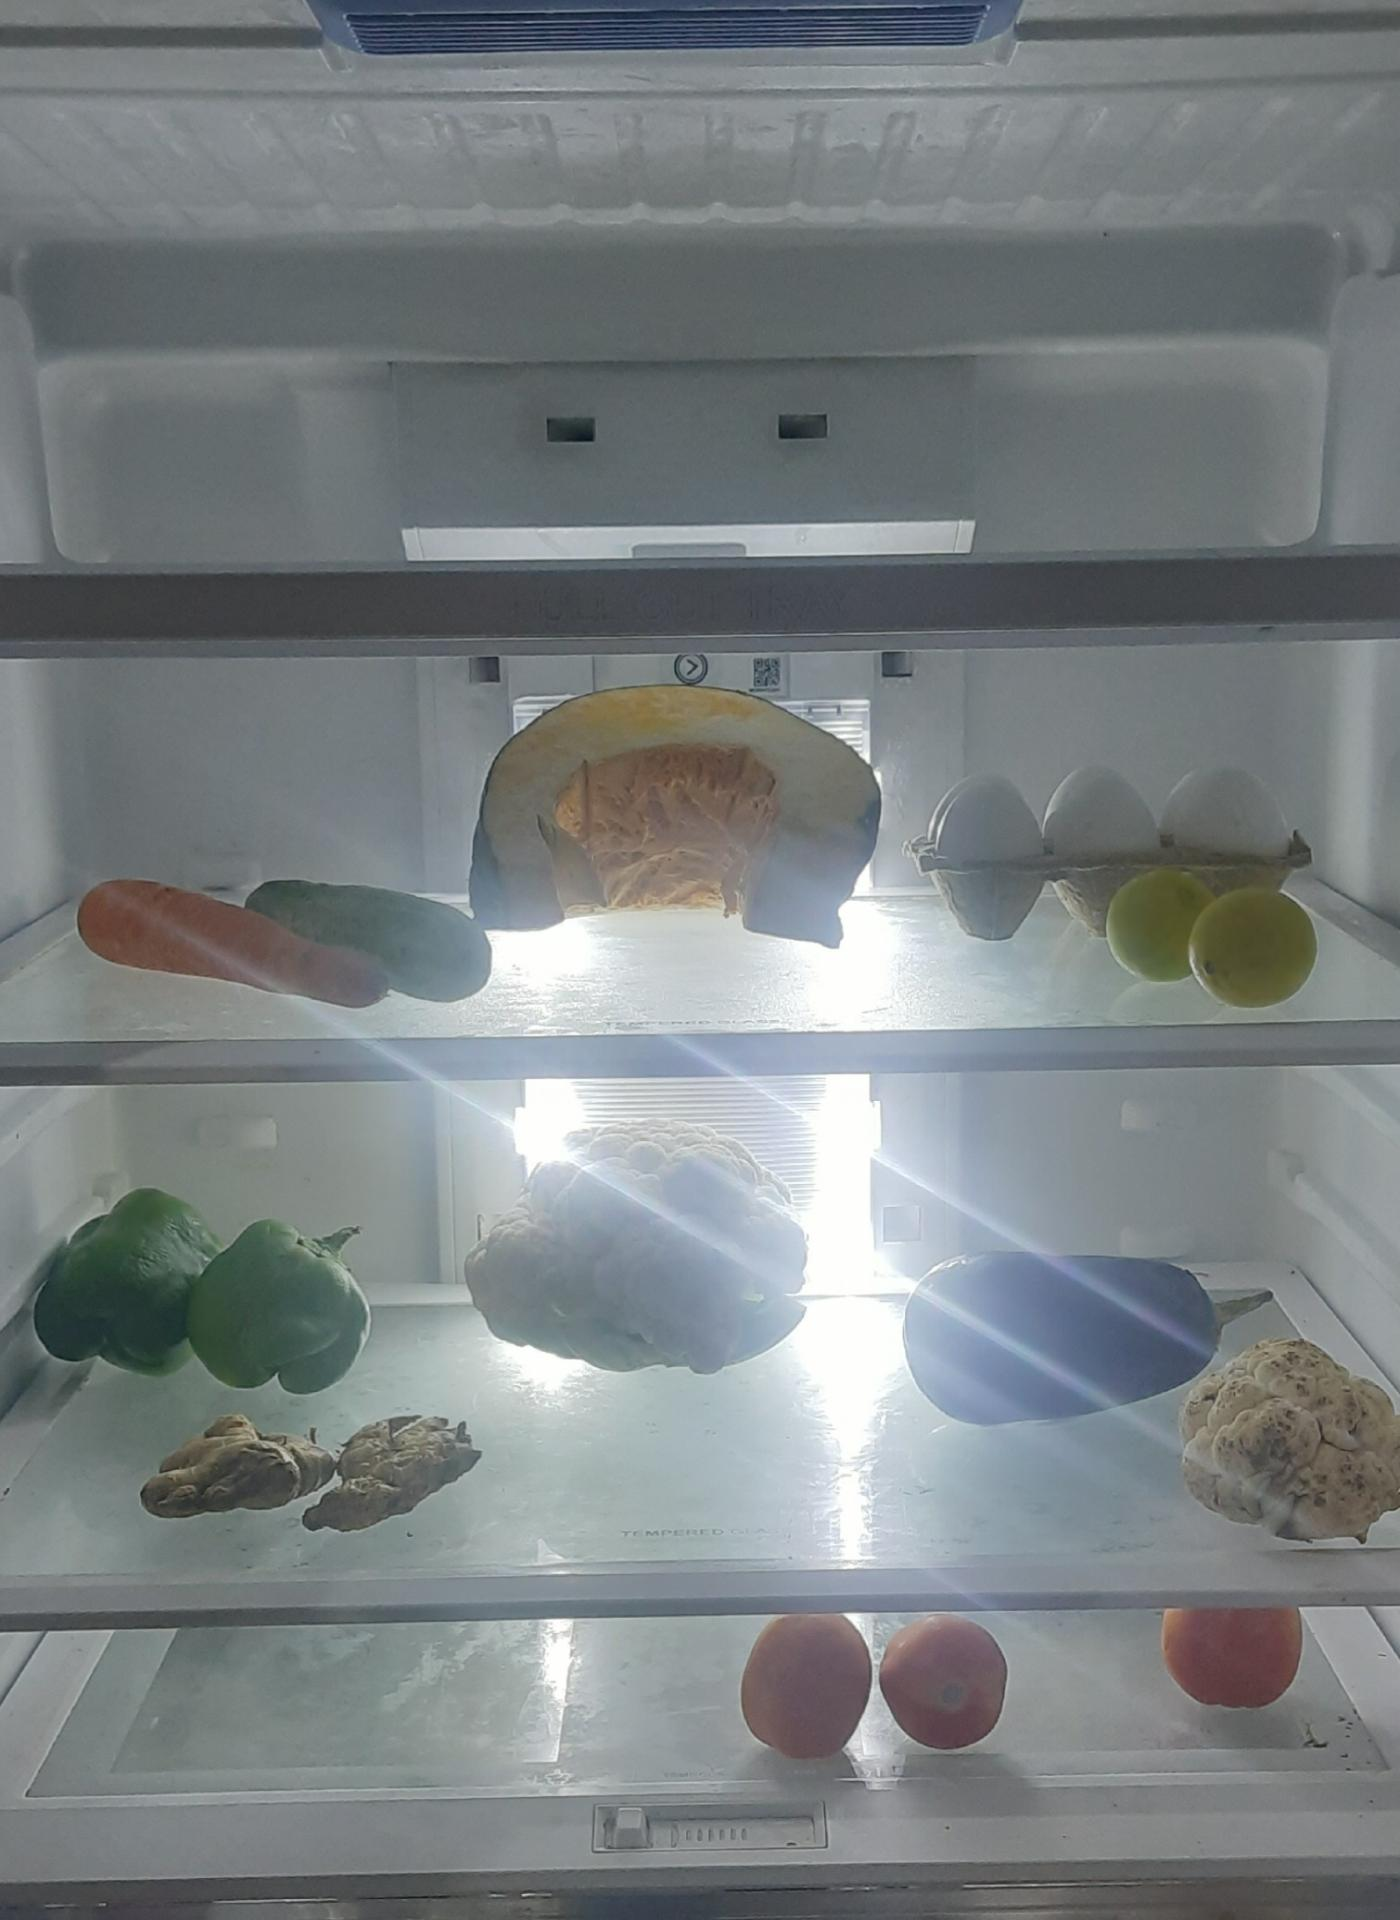brinjal: (890, 1239, 1279, 1430)
capsicum: (31, 1191, 374, 1395)
carrots: (79, 869, 392, 1005)
cauliflower: (461, 1106, 826, 1382), (1173, 1342, 1396, 1546)
cucumber: (250, 880, 494, 1005)
egg: (918, 753, 1302, 890)
ginger: (133, 1397, 494, 1538)
lemon: (1105, 865, 1324, 1003)
pumpkin: (467, 687, 890, 950)
tomato: (732, 1608, 875, 1765), (875, 1610, 1012, 1753), (1155, 1602, 1309, 1714)
